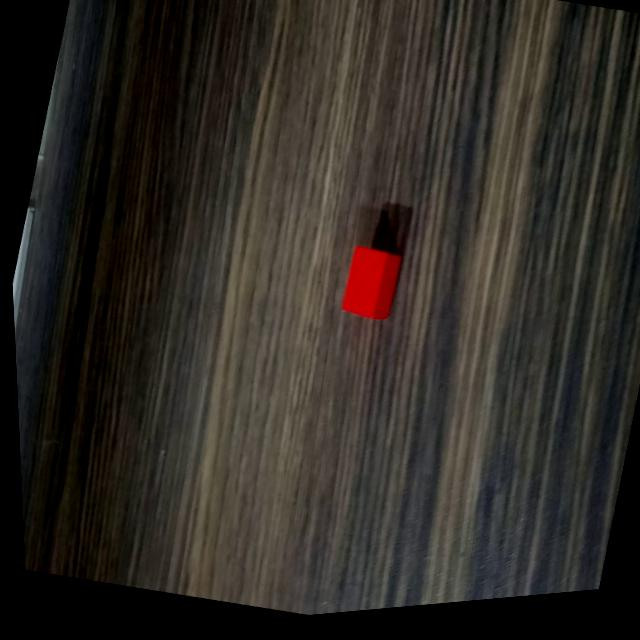cube: (327, 241, 409, 339)
